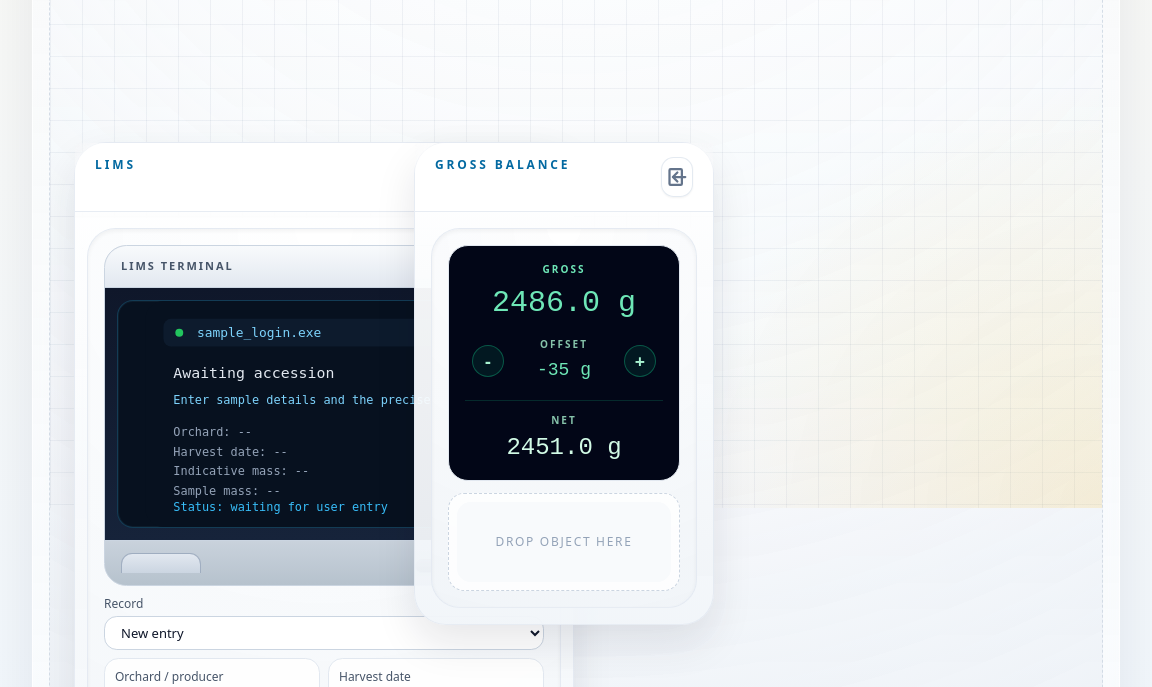
Test: LabScene › adjusts the gross balance container offset with +/- buttons and updates the net display
The image size is (1152, 687).
(page scrolled)
Check: the text "2486.0 g" is shown, box [492,286,636,320]
Check: the text "-35 g" is shown, box [537,360,591,380]
Click the button named "Decrease gross balance offset" at [488, 360], box [472,344,504,376]
(page scrolled)
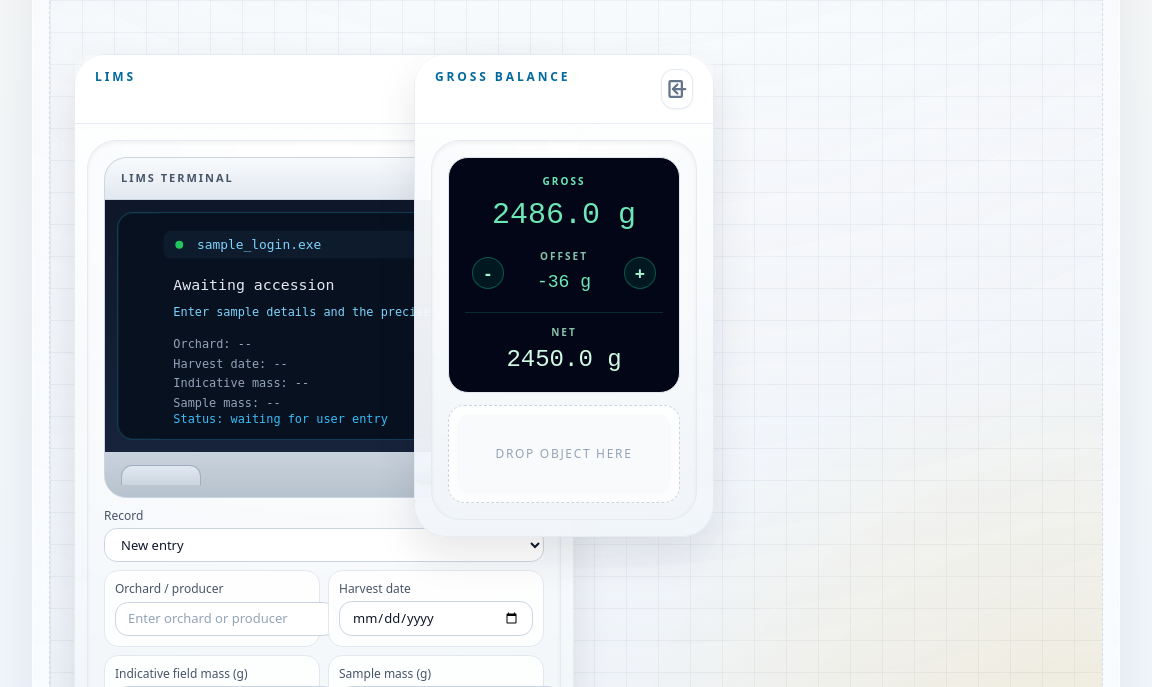
Check: the text "-36 g" is shown, box [537,272,591,292]
Check: the text "2450.0 g" is shown, box [506,346,622,373]
